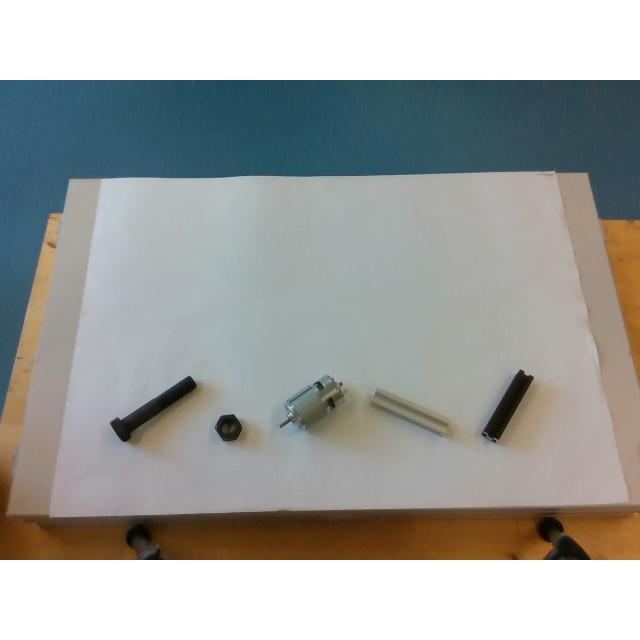F20_20_B: (481, 369, 533, 441)
F20_20_G: (370, 387, 450, 435)
M20: (215, 414, 241, 442)
M20_100: (110, 376, 196, 440)
Motor2: (278, 376, 346, 428)
